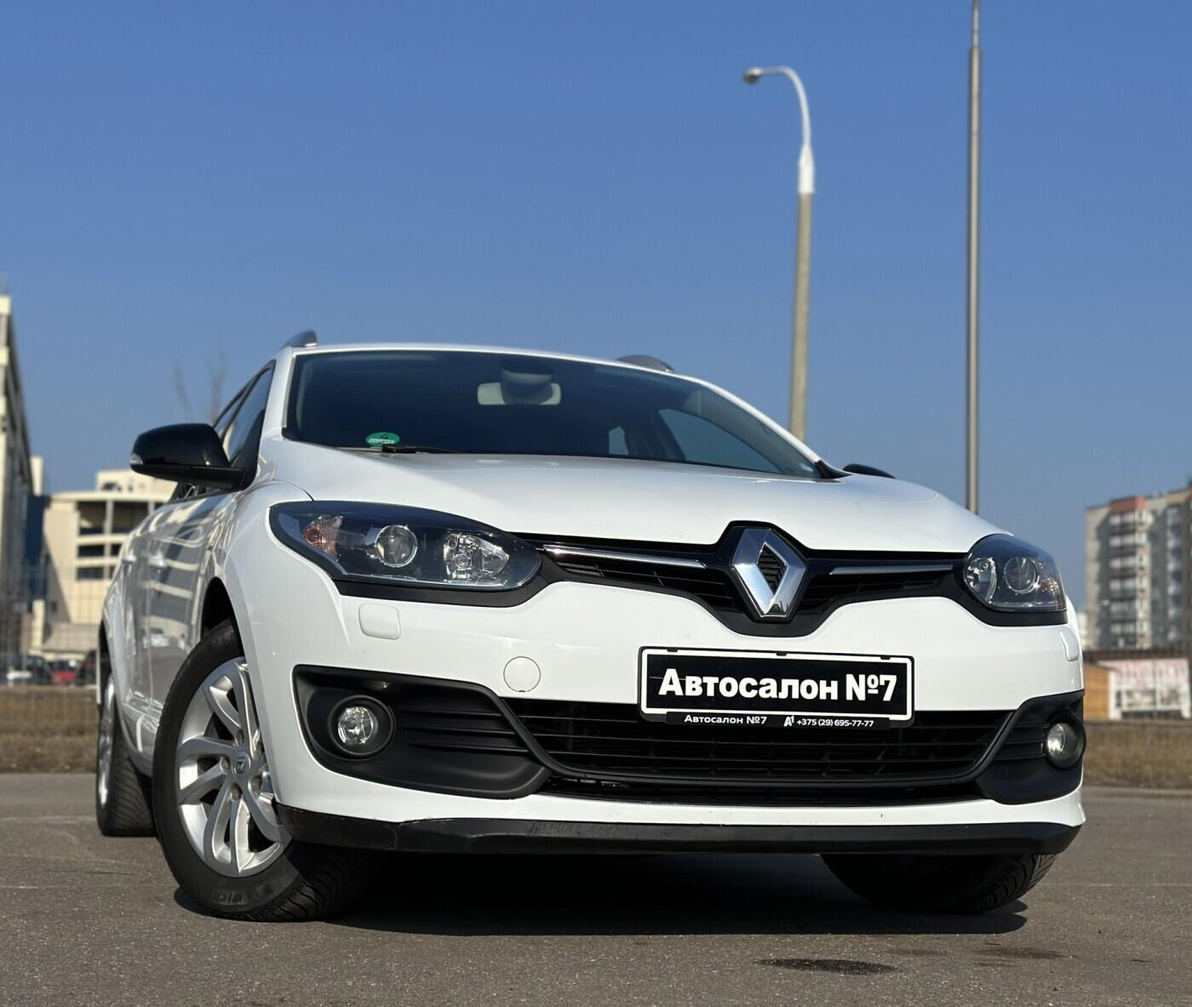Megane_2014-2016: (79, 332, 1087, 932)
